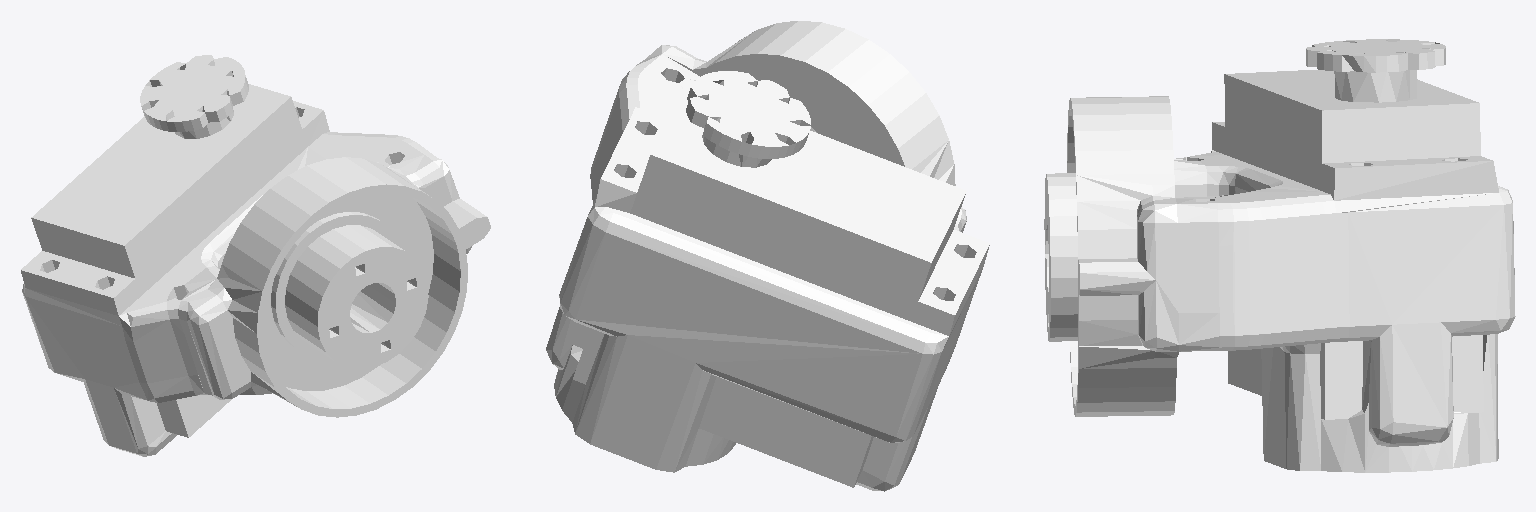
robot.urdf — URDF:
<?xml version="1.0" encoding="utf-8"?>
<!-- This URDF was automatically created by SolidWorks to URDF Exporter! Originally created by [author] ([email redacted]) 
     Commit Version: 1.6.0-1-g15f4949  Build Version: 1.6.7594.29634
     For more information, please see http://wiki.ros.org/sw_urdf_exporter -->
<robot
  name="URDF">
  <link
    name="base_link">
    <inertial>
      <origin
        xyz="0.741282703034574 0.351670128086844 1.40075903401093"
        rpy="0 0 0" />
      <mass
        value="18.1980250035854" />
      <inertia
        ixx="0.74939383399476"
        ixy="-0.028703505929362"
        ixz="2.0518280494408E-05"
        iyy="0.727164153682459"
        iyz="-2.13075572793794E-05"
        izz="0.757754120540996" />
    </inertial>
    <visual>
      <origin
        xyz="0 0 0"
        rpy="0 0 0" />
      <geometry>
        <mesh
          filename="package://URDF/meshes/base_link.STL" />
      </geometry>
      <material
        name="">
        <color
          rgba="0.792156862745098 0.819607843137255 0.933333333333333 1" />
      </material>
    </visual>
    <collision>
      <origin
        xyz="0 0 0"
        rpy="0 0 0" />
      <geometry>
        <mesh
          filename="package://URDF/meshes/base_link.STL" />
      </geometry>
    </collision>
  </link>
  <link
    name="R1">
    <inertial>
      <origin
        xyz="-3.32316447693159E-07 1.09202004786035E-07 0.0308292856989703"
        rpy="0 0 0" />
      <mass
        value="0.27570630549124" />
      <inertia
        ixx="6.88914080767581E-05"
        ixy="-1.95755978824601E-10"
        ixz="8.24240019270366E-11"
        iyy="6.889088503126E-05"
        iyz="2.45201152132248E-10"
        izz="9.76757025201994E-05" />
    </inertial>
    <visual>
      <origin
        xyz="0 0 0"
        rpy="0 0 0" />
      <geometry>
        <mesh
          filename="package://URDF/meshes/R1.STL" />
      </geometry>
      <material
        name="">
        <color
          rgba="1 1 1 1" />
      </material>
    </visual>
    <collision>
      <origin
        xyz="0 0 0"
        rpy="0 0 0" />
      <geometry>
        <mesh
          filename="package://URDF/meshes/R1.STL" />
      </geometry>
    </collision>
  </link>
  <joint
    name="R1"
    type="revolute">
    <origin
      xyz="0.46275 -1.6107 0.037671"
      rpy="1.5708 0 0" />
    <parent
      link="base_link" />
    <child
      link="R1" />
    <axis
      xyz="0 0 1" />
    <limit
      lower="0"
      upper="0"
      effort="0"
      velocity="0" />
  </joint>
  <link
    name="R2">
    <inertial>
      <origin
        xyz="-3.32314736173345E-07 1.09198209176375E-07 0.0308292857428711"
        rpy="0 0 0" />
      <mass
        value="0.275706304062198" />
      <inertia
        ixx="6.88914076231587E-05"
        ixy="-1.95746045684673E-10"
        ixz="8.2488935843423E-11"
        iyy="6.8890884518487E-05"
        iyz="2.45347398491144E-10"
        izz="9.76757017339128E-05" />
    </inertial>
    <visual>
      <origin
        xyz="0 0 0"
        rpy="0 0 0" />
      <geometry>
        <mesh
          filename="package://URDF/meshes/R2.STL" />
      </geometry>
      <material
        name="">
        <color
          rgba="1 1 1 1" />
      </material>
    </visual>
    <collision>
      <origin
        xyz="0 0 0"
        rpy="0 0 0" />
      <geometry>
        <mesh
          filename="package://URDF/meshes/R2.STL" />
      </geometry>
    </collision>
  </link>
  <joint
    name="R2"
    type="revolute">
    <origin
      xyz="0.89575 -1.6107 0.037671"
      rpy="1.5708 0 0" />
    <parent
      link="base_link" />
    <child
      link="R2" />
    <axis
      xyz="0 0 1" />
    <limit
      lower="0"
      upper="0"
      effort="0"
      velocity="0" />
  </joint>
  <link
    name="R3">
    <inertial>
      <origin
        xyz="-3.32293302596209E-07 1.09906895917611E-07 0.0308292856751329"
        rpy="0 0 0" />
      <mass
        value="0.275706306563281" />
      <inertia
        ixx="6.88914087905661E-05"
        ixy="-1.95394599280505E-10"
        ixz="8.20383633156065E-11"
        iyy="6.88908855000545E-05"
        iyz="2.45439556324423E-10"
        izz="9.76757035705292E-05" />
    </inertial>
    <visual>
      <origin
        xyz="0 0 0"
        rpy="0 0 0" />
      <geometry>
        <mesh
          filename="package://URDF/meshes/R3.STL" />
      </geometry>
      <material
        name="">
        <color
          rgba="1 1 1 1" />
      </material>
    </visual>
    <collision>
      <origin
        xyz="0 0 0"
        rpy="0 0 0" />
      <geometry>
        <mesh
          filename="package://URDF/meshes/R3.STL" />
      </geometry>
    </collision>
  </link>
  <joint
    name="R3"
    type="revolute">
    <origin
      xyz="0.46275 -1.1268 0.037671"
      rpy="1.5708 0.075033 0" />
    <parent
      link="base_link" />
    <child
      link="R3" />
    <axis
      xyz="0 0 1" />
    <limit
      lower="0"
      upper="0"
      effort="0"
      velocity="0" />
  </joint>
  <link
    name="R4">
    <inertial>
      <origin
        xyz="-3.32309227468741E-07 1.0919202917542E-07 0.0308292857508021"
        rpy="0 0 0" />
      <mass
        value="0.275706303969767" />
      <inertia
        ixx="6.88914076876138E-05"
        ixy="-1.95758718977821E-10"
        ixz="8.24407060529253E-11"
        iyy="6.88908843216246E-05"
        iyz="2.45292353523362E-10"
        izz="9.76757016144962E-05" />
    </inertial>
    <visual>
      <origin
        xyz="0 0 0"
        rpy="0 0 0" />
      <geometry>
        <mesh
          filename="package://URDF/meshes/R4.STL" />
      </geometry>
      <material
        name="">
        <color
          rgba="1 1 1 1" />
      </material>
    </visual>
    <collision>
      <origin
        xyz="0 0 0"
        rpy="0 0 0" />
      <geometry>
        <mesh
          filename="package://URDF/meshes/R4.STL" />
      </geometry>
    </collision>
  </link>
  <joint
    name="R4"
    type="revolute">
    <origin
      xyz="0.89575 -1.1268 0.038171"
      rpy="1.5708 0 0" />
    <parent
      link="base_link" />
    <child
      link="R4" />
    <axis
      xyz="0 0 1" />
    <limit
      lower="0"
      upper="0"
      effort="0"
      velocity="0" />
  </joint>
  <link
    name="Elevador">
    <inertial>
      <origin
        xyz="-0.0194687997037347 0.988368068927959 -0.000806200861802608"
        rpy="0 0 0" />
      <mass
        value="2.60665430069429" />
      <inertia
        ixx="0.125978697503296"
        ixy="-8.20388084509917E-06"
        ixz="-7.22518281196082E-05"
        iyy="0.00336627885550658"
        iyz="-1.03391661128868E-06"
        izz="0.126740000412345" />
    </inertial>
    <visual>
      <origin
        xyz="0 0 0"
        rpy="0 0 0" />
      <geometry>
        <mesh
          filename="package://URDF/meshes/Elevador.STL" />
      </geometry>
      <material
        name="">
        <color
          rgba="0.792156862745098 0.819607843137255 0.933333333333333 1" />
      </material>
    </visual>
    <collision>
      <origin
        xyz="0 0 0"
        rpy="0 0 0" />
      <geometry>
        <mesh
          filename="package://URDF/meshes/Elevador.STL" />
      </geometry>
    </collision>
  </link>
  <joint
    name="Elevador"
    type="revolute">
    <origin
      xyz="0.60236 -1.3996 0.045571"
      rpy="1.5708 0 -0.072107" />
    <parent
      link="base_link" />
    <child
      link="Elevador" />
    <axis
      xyz="0 1 0" />
    <limit
      lower="0"
      upper="0"
      effort="0"
      velocity="0" />
  </joint>
  <link
    name="Brazo">
    <inertial>
      <origin
        xyz="-0.0597935267617881 0.0443176086273462 -0.00552870242359882"
        rpy="0 0 0" />
      <mass
        value="0.437735318876537" />
      <inertia
        ixx="0.000228611435321989"
        ixy="2.42917546188452E-06"
        ixz="-7.8993830242554E-05"
        iyy="0.00127483380576477"
        iyz="2.21258509861201E-07"
        izz="0.00107933049416827" />
    </inertial>
    <visual>
      <origin
        xyz="0 0 0"
        rpy="0 0 0" />
      <geometry>
        <mesh
          filename="package://URDF/meshes/Brazo.STL" />
      </geometry>
      <material
        name="">
        <color
          rgba="0.792156862745098 0.819607843137255 0.933333333333333 1" />
      </material>
    </visual>
    <collision>
      <origin
        xyz="0 0 0"
        rpy="0 0 0" />
      <geometry>
        <mesh
          filename="package://URDF/meshes/Brazo.STL" />
      </geometry>
    </collision>
  </link>
  <joint
    name="Brazo"
    type="revolute">
    <origin
      xyz="-0.23414 1.3761 -0.02003"
      rpy="0 0.060544 0" />
    <parent
      link="Elevador" />
    <child
      link="Brazo" />
    <axis
      xyz="0 1 0" />
    <limit
      lower="0"
      upper="0"
      effort="0"
      velocity="0" />
  </joint>
  <link
    name="Pinza">
    <inertial>
      <origin
        xyz="2.94735638672883E-09 0.0124484641405673 -0.000314356192934406"
        rpy="0 0 0" />
      <mass
        value="0.0359021021971385" />
      <inertia
        ixx="1.49279877427072E-05"
        ixy="-2.24453625188101E-13"
        ixz="-6.80520122915608E-13"
        iyy="1.87684393143171E-05"
        iyz="-4.30494762153057E-07"
        izz="7.31622414624581E-06" />
    </inertial>
    <visual>
      <origin
        xyz="0 0 0"
        rpy="0 0 0" />
      <geometry>
        <mesh
          filename="package://URDF/meshes/Pinza.STL" />
      </geometry>
      <material
        name="">
        <color
          rgba="1 1 1 1" />
      </material>
    </visual>
    <collision>
      <origin
        xyz="0 0 0"
        rpy="0 0 0" />
      <geometry>
        <mesh
          filename="package://URDF/meshes/Pinza.STL" />
      </geometry>
    </collision>
  </link>
  <joint
    name="Pinza"
    type="revolute">
    <origin
      xyz="-0.13592 0 -0.012518"
      rpy="0 0.049259 0" />
    <parent
      link="Brazo" />
    <child
      link="Pinza" />
    <axis
      xyz="0 1 0" />
    <limit
      lower="0"
      upper="0"
      effort="0"
      velocity="0" />
  </joint>
</robot>

--- Facts derived from the render (not from the file) ---
Views: 3 orthographic renders of the robot side by side, from view 1: azimuth 30°, elevation 25°; view 2: azimuth 150°, elevation 25°; view 3: azimuth 270°, elevation 25°.
Robot: URDF — 8 links, 7 joints (7 revolute); root link base_link; default pose: all joints at 0.
Links seen in each view (by area): view 1: Pinza; view 2: Pinza; view 3: Pinza.
Link boxes in pixels (x1,y1,x2,y2): Pinza: (21, 55, 490, 456); Pinza: (546, 21, 989, 491); Pinza: (1044, 39, 1515, 472).
Size in the robot's own frame: 0.0969 by 0.0839 by 0.0847 metres.
1 mesh visuals loaded from 8 distinct referenced files (1 binary STL); not drawn: 7 (reference not matched to a file when rendering).